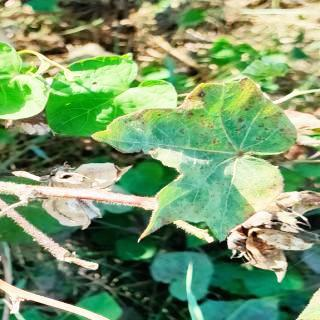blight: (89, 70, 300, 242)
